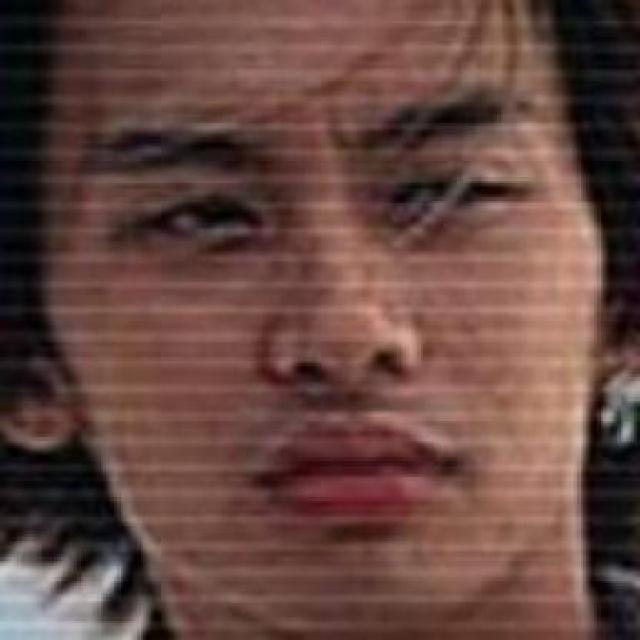angry: (58, 88, 580, 600)
